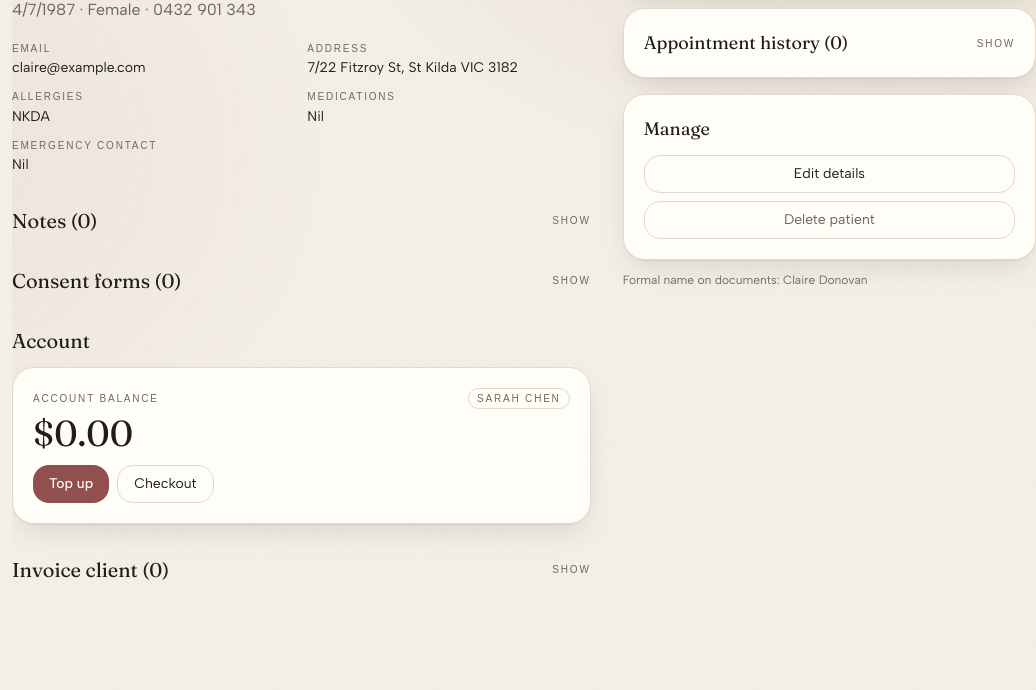
patient file — Invoice client › shows the Invoice client section and lists an issued client invoice
The image size is (1036, 690).
# The section is a collapsed accordion by default — expand it to reach the composer.
Click the button "Invoice client (0) Show" at [81, 569], box top-left (12, 556), bottom-right (591, 584)
(page scrolled)
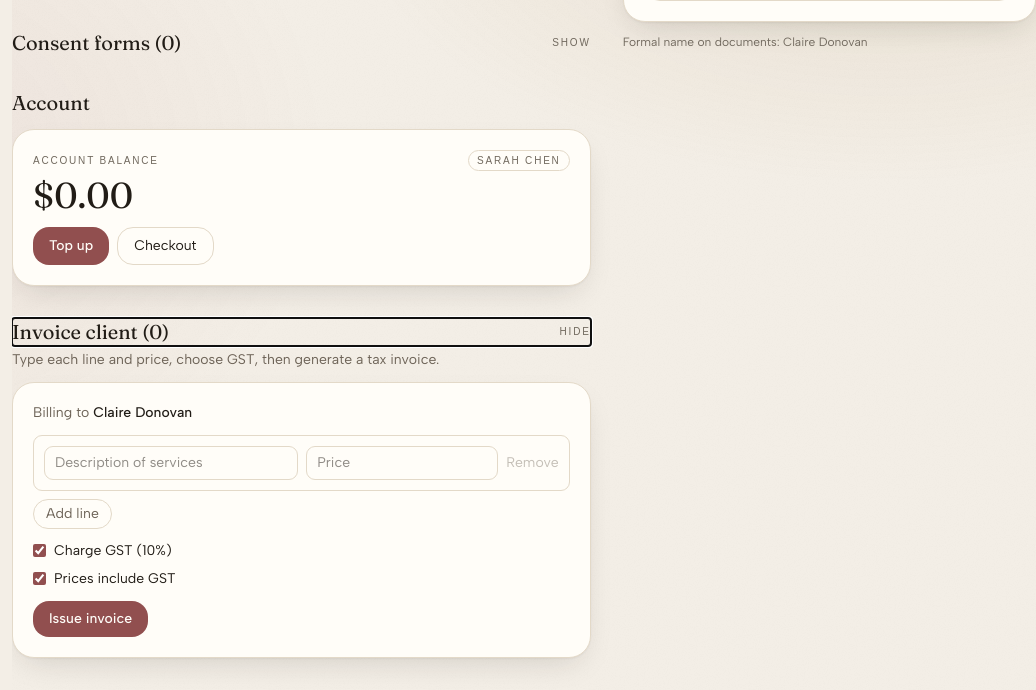
Type "Dermal filler" into the field named "Line 1 description" at [171, 463], box top-left (44, 446), bottom-right (298, 480)
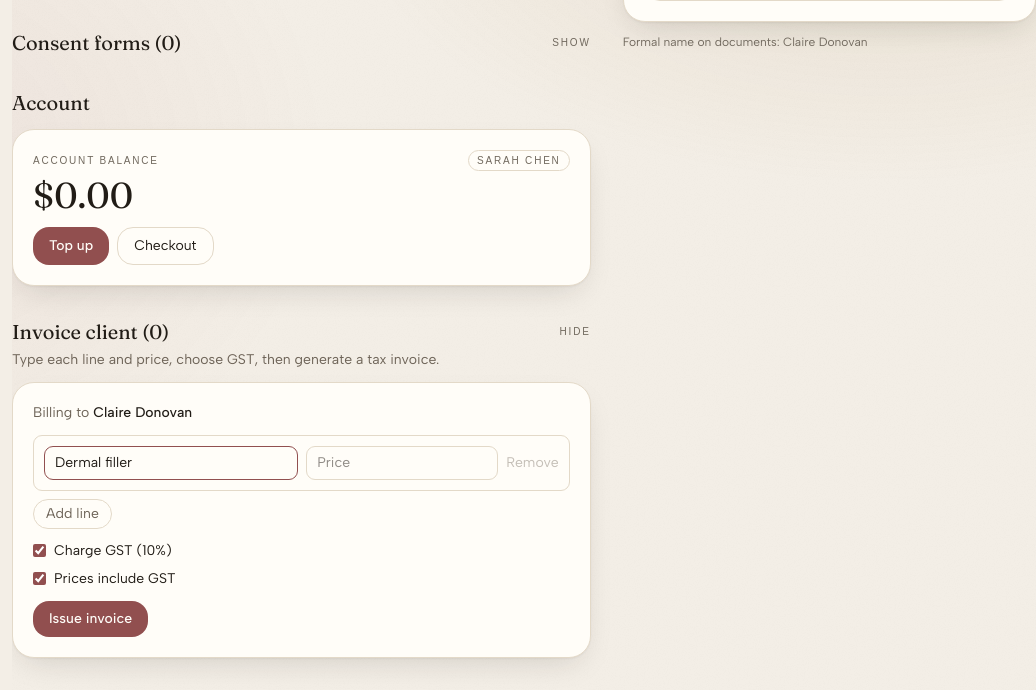
Type "500" into the field named "Line 1 amount" at [402, 463], box top-left (306, 446), bottom-right (498, 480)
(page scrolled)
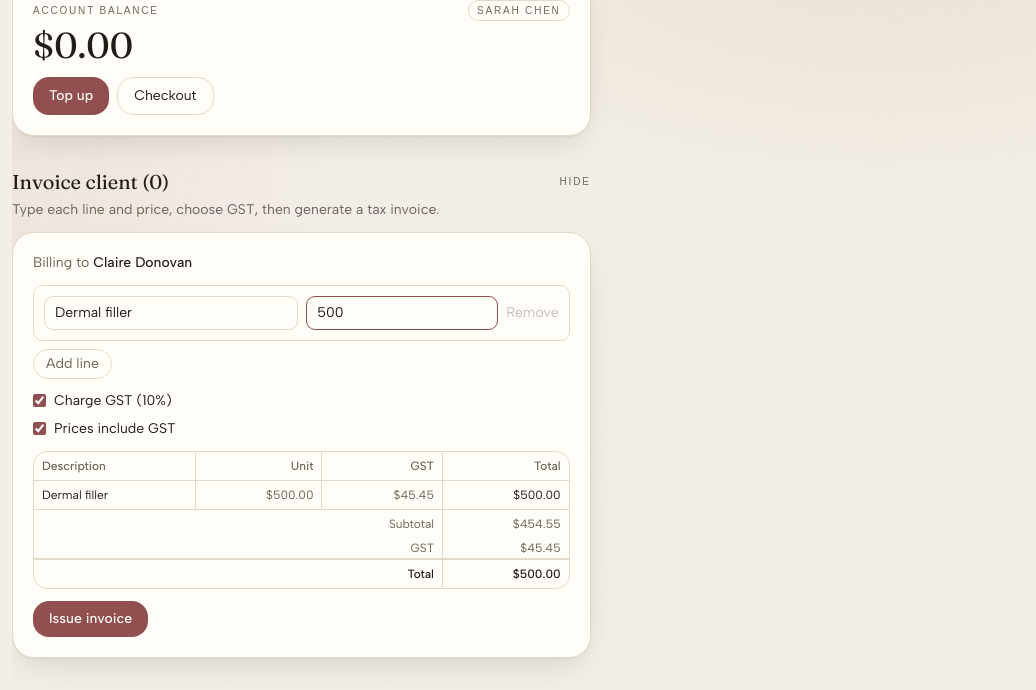
Click the button "Issue invoice" at [91, 619], box top-left (33, 601), bottom-right (148, 637)
(page scrolled)
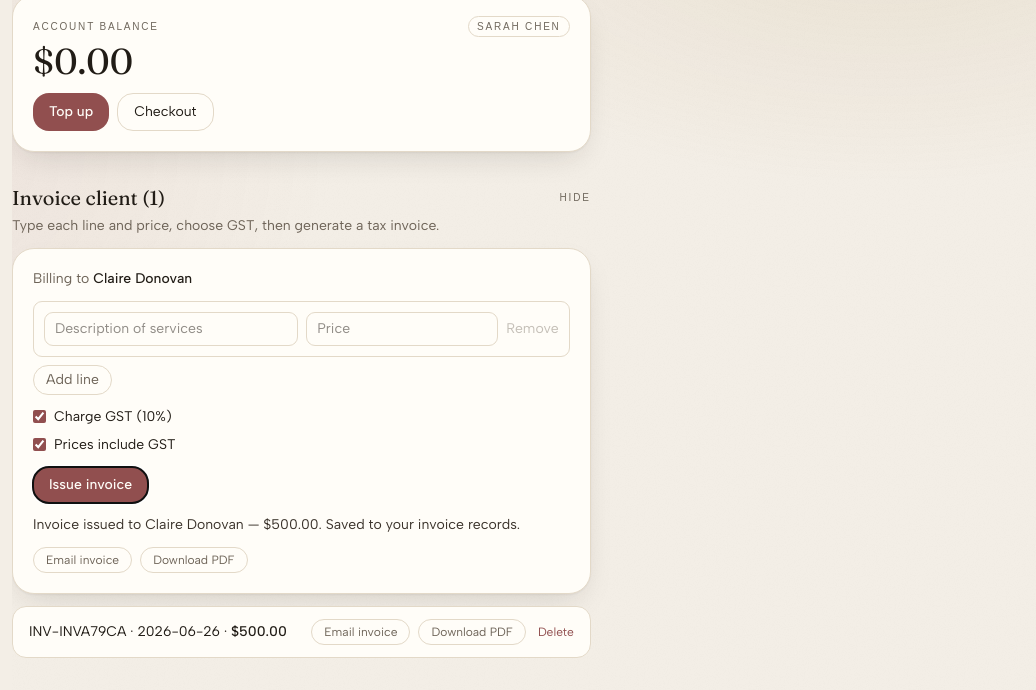
Expected: the text "INV-INVA79CA · 2026-06-26 · $500.00" is shown, top-left (29, 622), bottom-right (287, 642)
